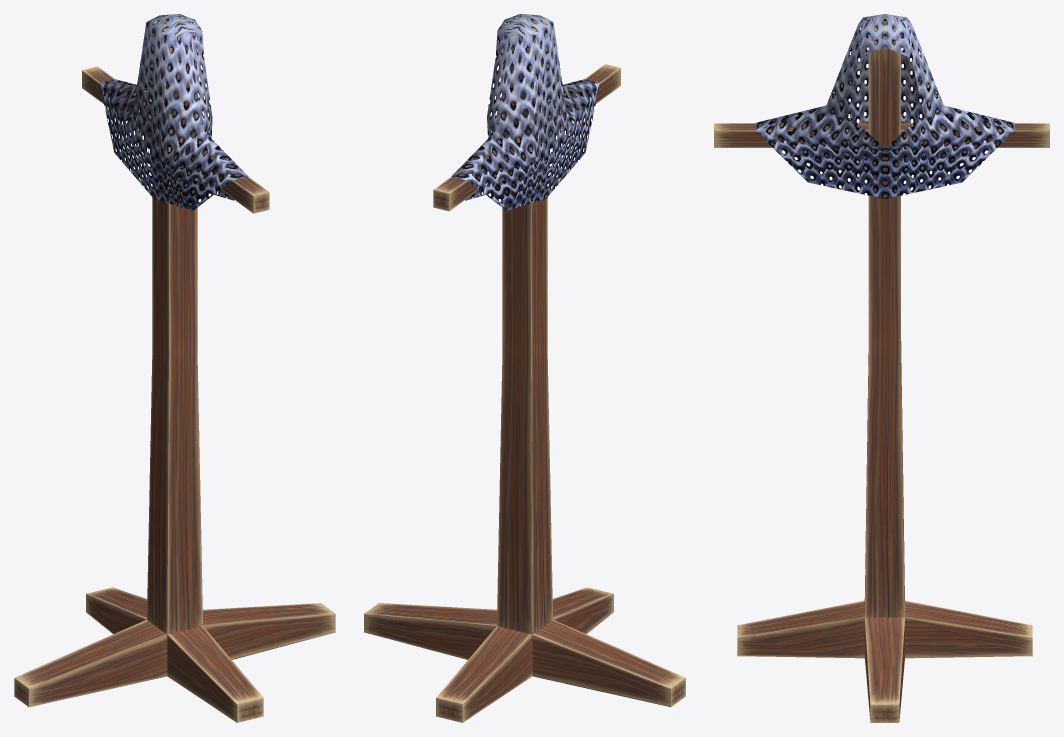
The model's file is armorstandmailcoifblue.obj.
3 views of the same model, side by side, from view 1: azimuth 30°, elevation 25°; view 2: azimuth 150°, elevation 25°; view 3: azimuth 270°, elevation 25° (orthographic). The views are drawn at different scales.
Parts seen in each view (by area): view 1: armorstandmailcoifblue; view 2: armorstandmailcoifblue; view 3: armorstandmailcoifblue.
Part boxes in pixels (x1,y1,x2,y2): armorstandmailcoifblue: (14,14,335,722); armorstandmailcoifblue: (364,14,685,722); armorstandmailcoifblue: (714,14,1049,722).
Bounding box in the file's own units: 0.8958 × 1.81 × 0.8686.
Materials: 1 (1 with a texture image).
